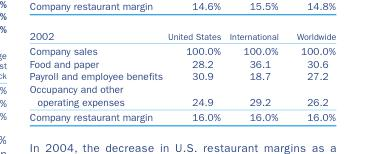table: (28, 29, 335, 122)
table column: (28, 29, 164, 122), (224, 29, 286, 122), (164, 29, 224, 122), (286, 29, 335, 122)
table column header: (28, 29, 335, 42)
table row: (28, 82, 335, 109), (28, 42, 335, 56), (28, 29, 335, 42), (28, 56, 335, 69), (28, 69, 335, 82), (28, 109, 335, 122)
